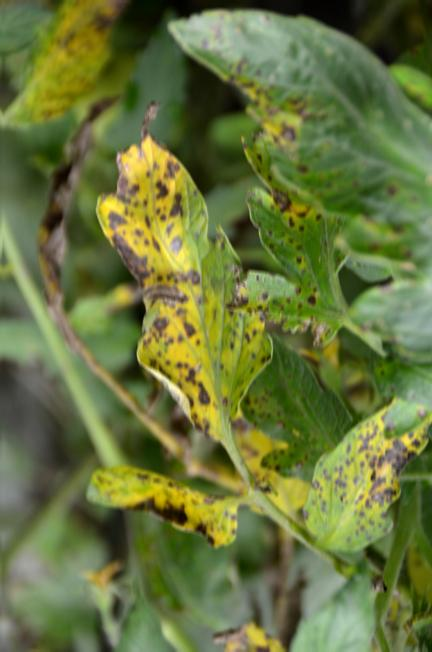Tomato Early blight leaf: (98, 141, 249, 446), (293, 402, 432, 555), (80, 469, 244, 544)
